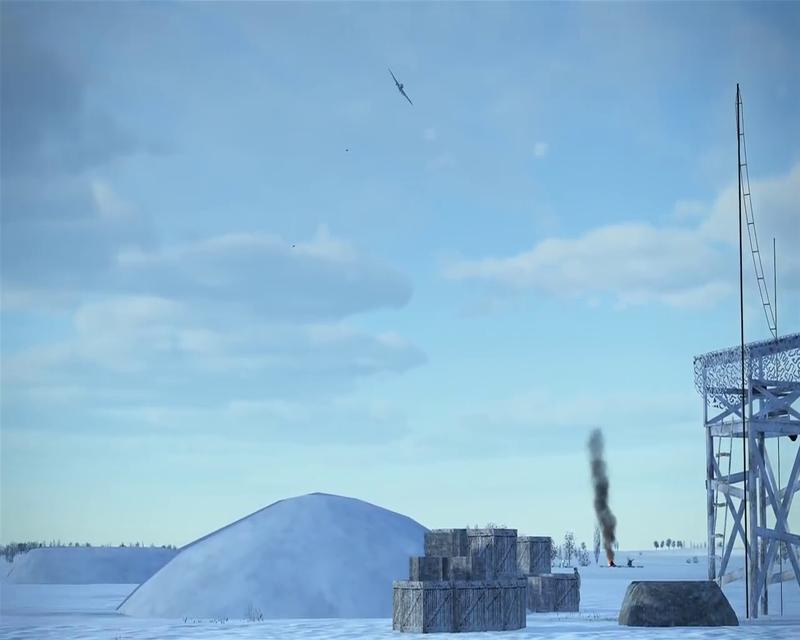UAV: (387, 68, 415, 106)
